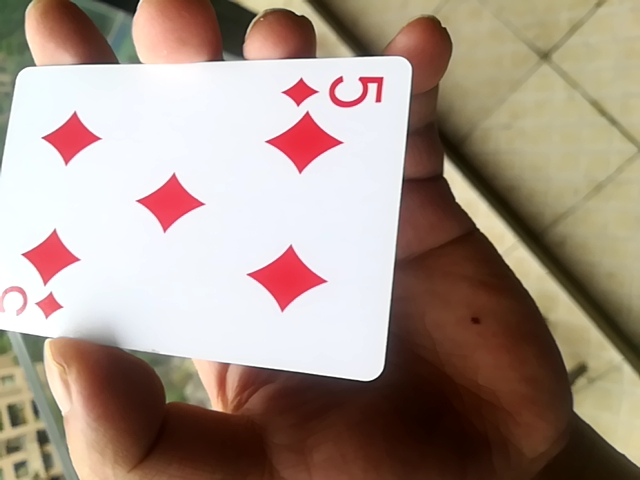fk 5: (2, 55, 412, 387)
